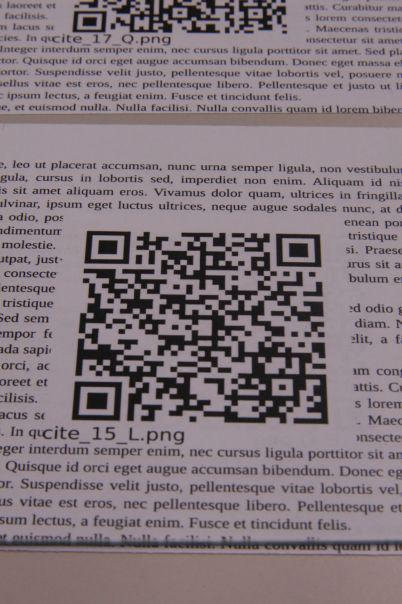Finder pattern: (69, 377, 127, 423), (271, 228, 329, 270), (81, 227, 137, 269)
